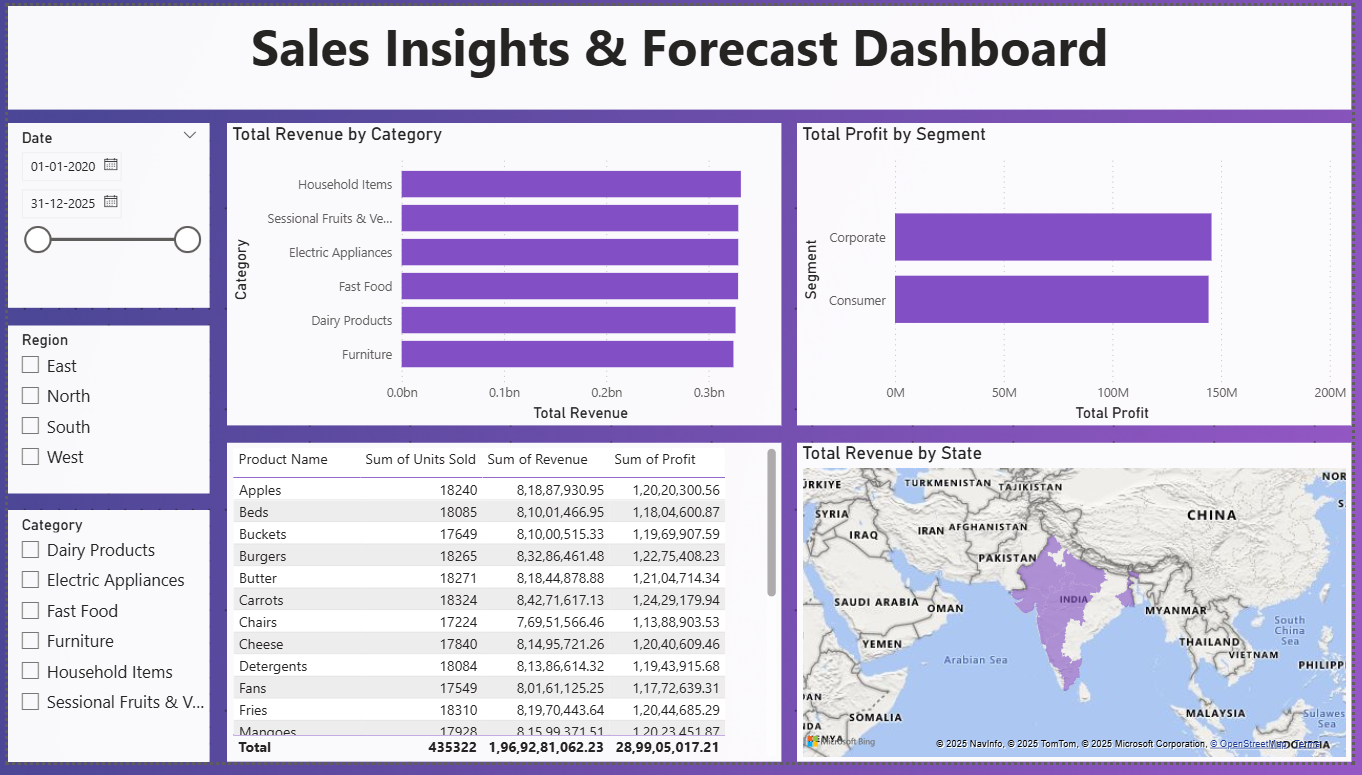

What the dashboard file says about the page in this screenshot:
{"tool":"powerbi","page":{"name":"Sales Performance","canvas":[1280,720],"ordinal":1},"visuals":[{"type":"textbox","box":[0,0,1279.5,98.4],"z":0},{"type":"slicer","fields":{"Values":["Date.Date"]},"box":[0,112,192,176],"z":1000},{"type":"slicer","fields":{"Values":["Fact_Sales.Region"]},"box":[0,304,192,160],"z":2000},{"type":"slicer","fields":{"Values":["Fact_Sales.Category"]},"box":[0,480,192,240],"z":3000},{"type":"clusteredBarChart","fields":{"Category":["Fact_Sales.Category"],"Y":["Z_Measures.Total Revenue"]},"box":[208,112,528,288],"z":4000},{"type":"clusteredBarChart","fields":{"Category":["Fact_Sales.Segment"],"Y":["Z_Measures.Total Profit"]},"box":[752,112,528,288],"z":5000},{"type":"tableEx","fields":{"Values":["Fact_Sales.Product Name","Sum(Fact_Sales.Units Sold)","Sum(Fact_Sales.Revenue)","Sum(Fact_Sales.Profit)"]},"box":[208,416,528,304],"z":6000},{"type":"filledMap","fields":{"Category":["Fact_Sales.State"]},"box":[752,416,528,304],"z":7000}]}

Visuals, with their boxes in screenshot pixels (x1, y1, x2, y2), scaled from the page's 1280x720 canvas onto the 1362x775 screenshot:
textbox: detection(0, 0, 1361, 106)
slicer - Date.Date: detection(0, 121, 204, 310)
slicer - Fact_Sales.Region: detection(0, 327, 204, 499)
slicer - Fact_Sales.Category: detection(0, 517, 204, 774)
clusteredBarChart - Fact_Sales.Category x Z_Measures.Total Revenue: detection(221, 121, 783, 431)
clusteredBarChart - Fact_Sales.Segment x Z_Measures.Total Profit: detection(800, 121, 1361, 431)
tableEx - Fact_Sales.Product Name x Sum(Fact_Sales.Units Sold): detection(221, 448, 783, 774)
filledMap - Fact_Sales.State: detection(800, 448, 1361, 774)
